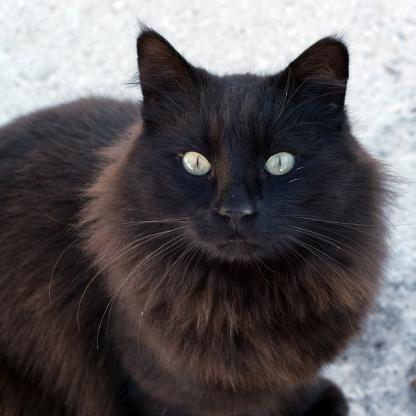cat: (0, 28, 388, 415)
